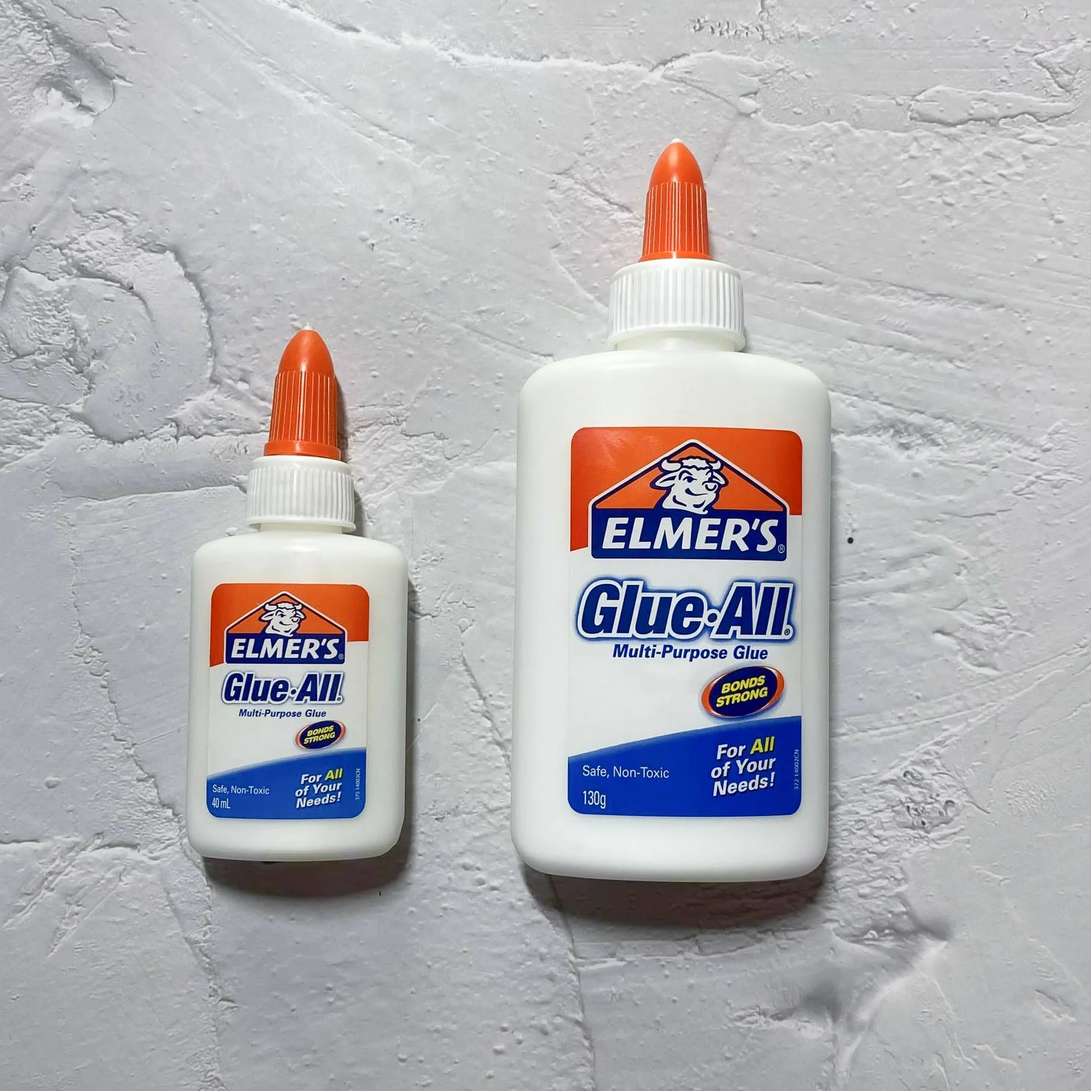toxic_waste: (533, 175, 828, 862), (188, 322, 412, 857)
